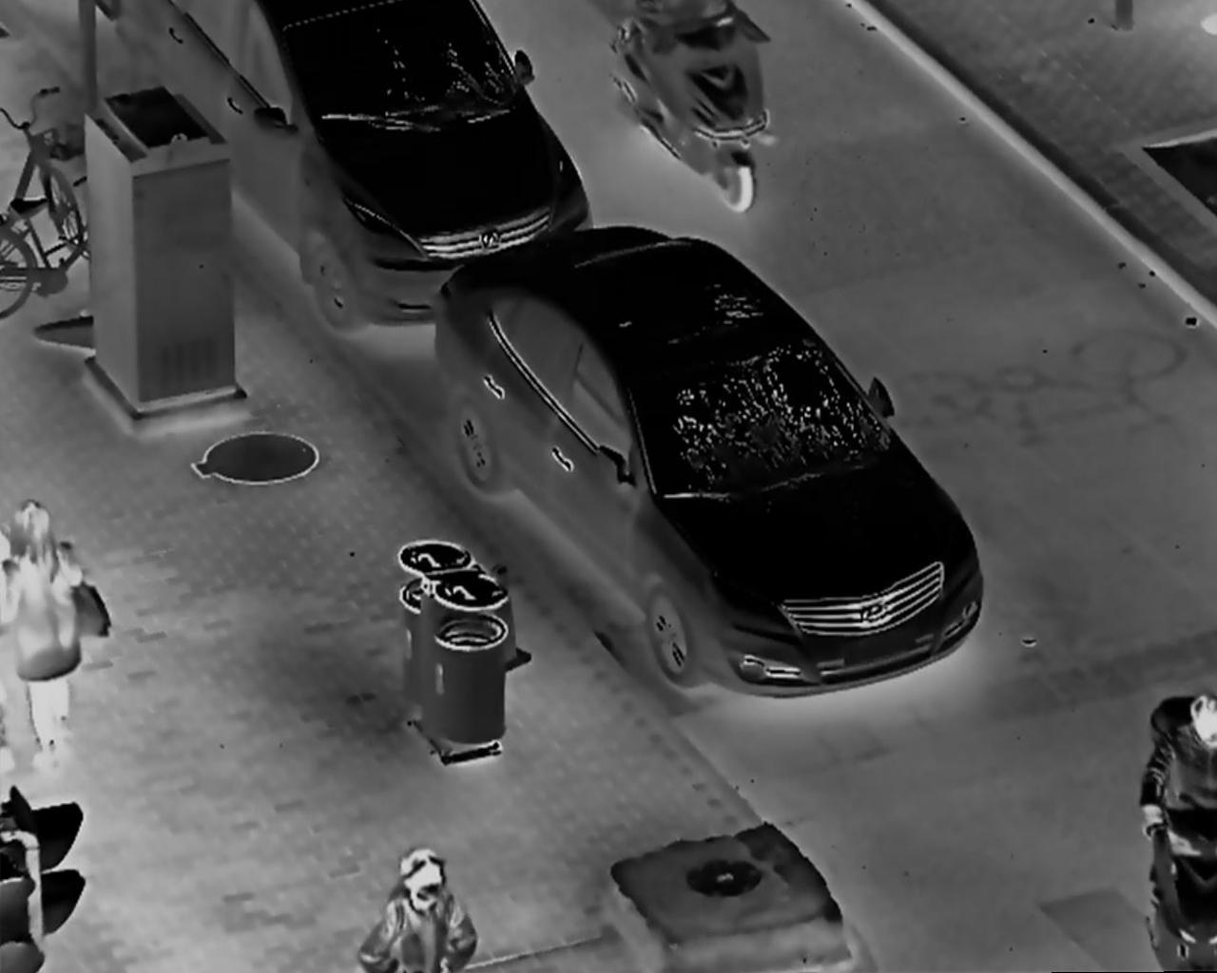person: (1149, 693, 1217, 951), (350, 846, 480, 973)
